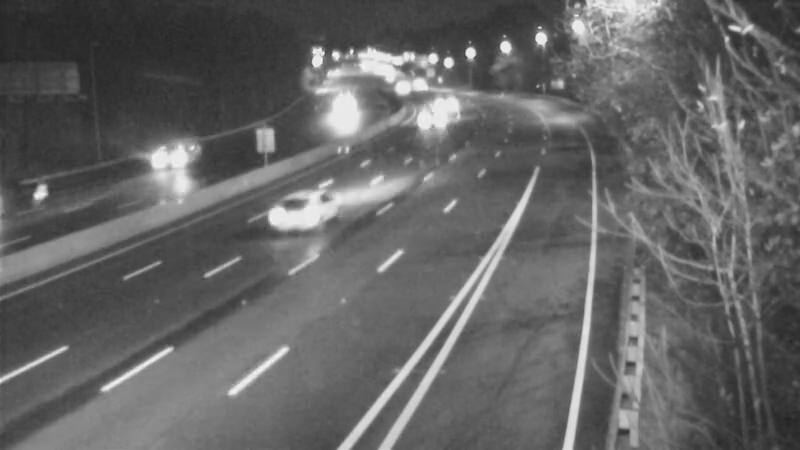vehicle: (259, 170, 339, 250), (135, 112, 215, 192), (1, 159, 75, 239), (410, 82, 460, 132), (400, 93, 450, 143), (310, 87, 360, 137)
